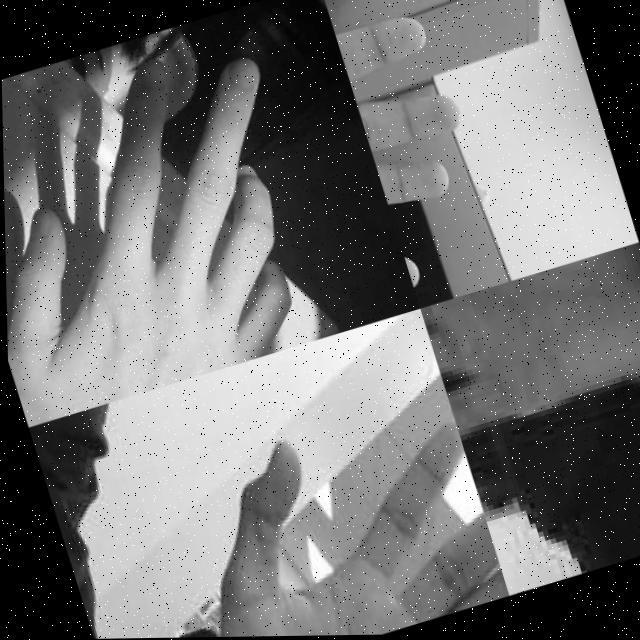no-gloves: (0, 26, 342, 427), (147, 388, 505, 638), (318, 0, 506, 295), (416, 244, 640, 456)
